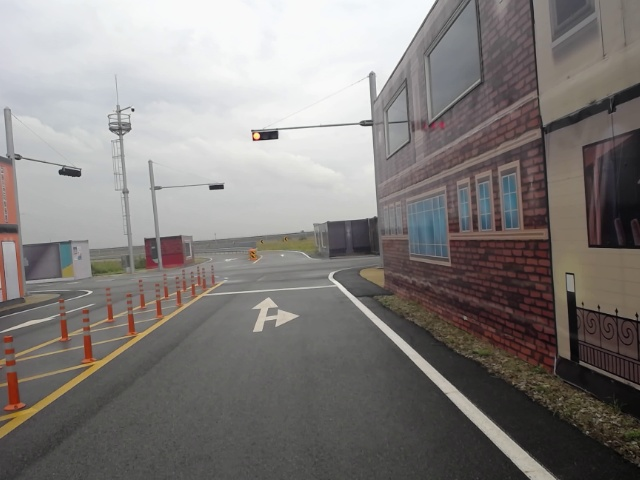red_3: (252, 130, 278, 141)
